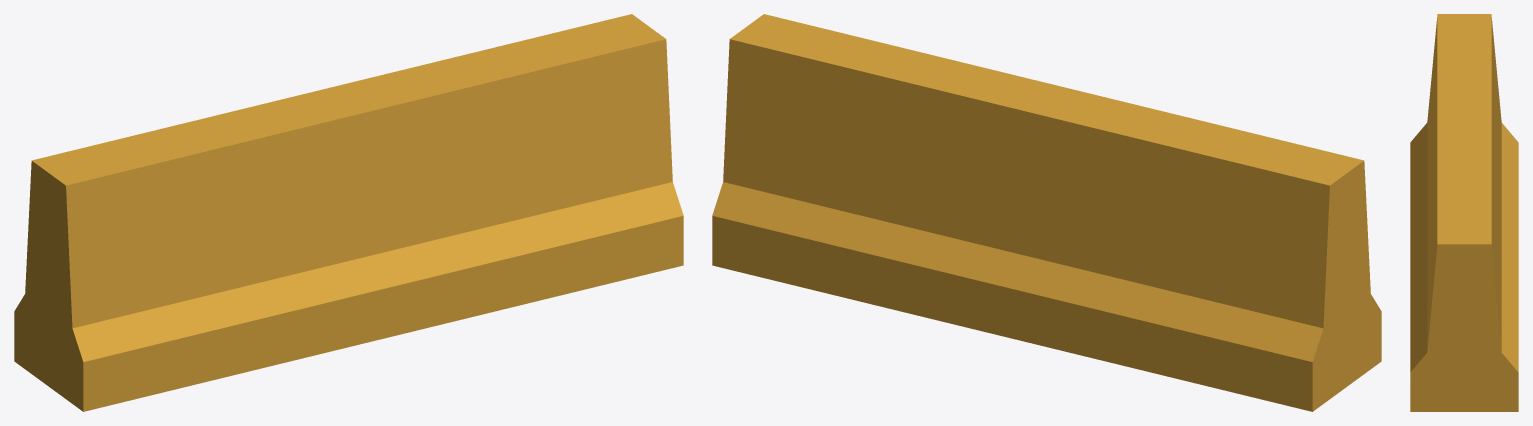
Rendered from blockade3.fbx.
The picture shows the model from 3 angles, left to right: view 1: azimuth 30°, elevation 25°; view 2: azimuth 150°, elevation 25°; view 3: azimuth 270°, elevation 25°; orthographic projection. The views are drawn at different scales.
Visible parts, largest first — view 1: blockade3; view 2: blockade3; view 3: blockade3.
Part boxes in pixels (x1,y1,x2,y2): blockade3: (14,14,683,411); blockade3: (712,14,1381,411); blockade3: (1410,14,1518,411).
Bounding box in the file's own units: 300 × 102 × 59.84.
